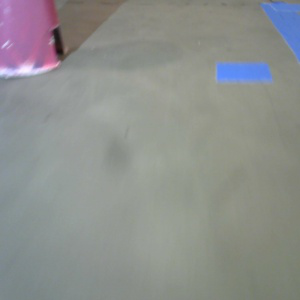middle: (1, 1, 70, 77)
